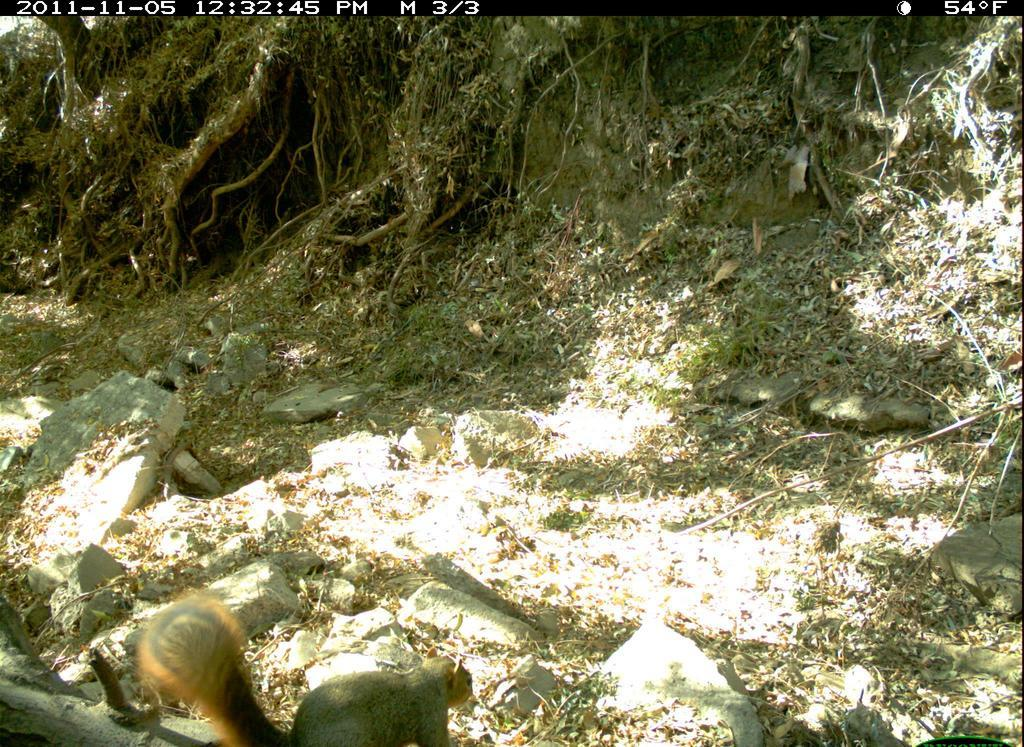squirrel: (132, 594, 483, 747)
